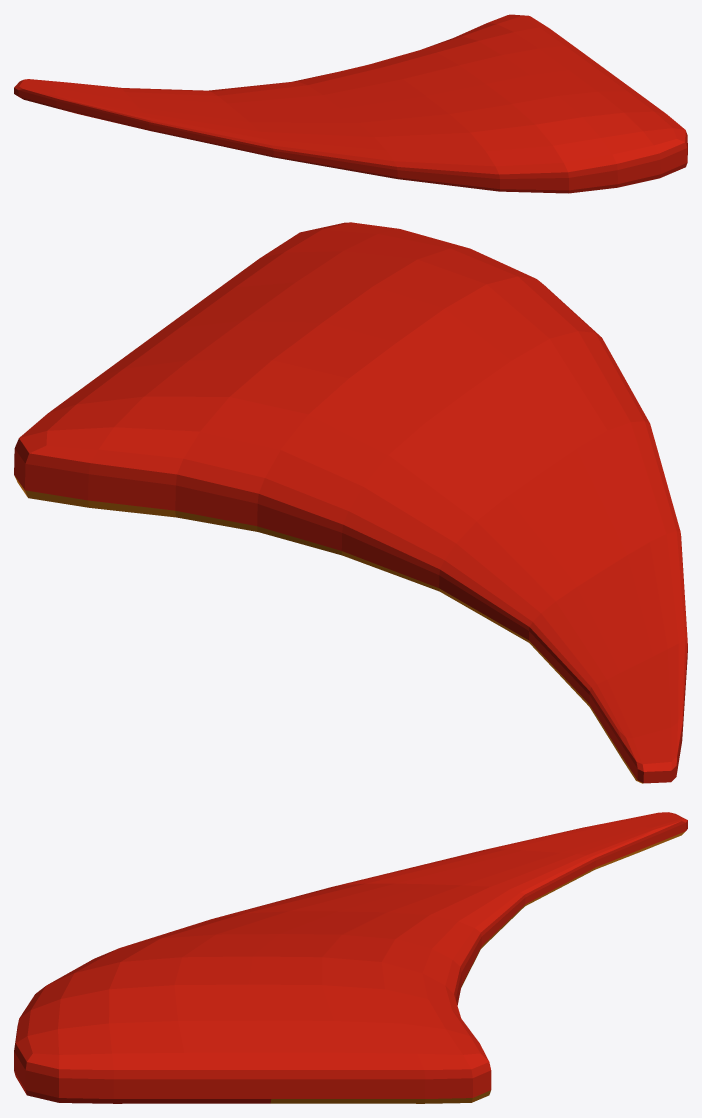
File: pteranodon_wing_r.obj
The picture shows the model from 3 angles, top to bottom: view 1: azimuth 30°, elevation 25°; view 2: azimuth 150°, elevation 25°; view 3: azimuth 270°, elevation 25°; orthographic projection. The views are drawn at different scales.
Parts seen in each view (by area): view 1: Wing_right_Pteranodon_1; view 2: Wing_right_Pteranodon_1, Wing_right_Pteranodon_2; view 3: Wing_right_Pteranodon_1, Wing_right_Pteranodon_2.
Part boxes in pixels (x1,y1,x2,y2): Wing_right_Pteranodon_1: (14, 14, 687, 193); Wing_right_Pteranodon_1: (14, 222, 687, 783); Wing_right_Pteranodon_2: (14, 476, 642, 783); Wing_right_Pteranodon_1: (14, 812, 687, 1103); Wing_right_Pteranodon_2: (270, 831, 685, 1103).
Bounding box in the file's own units: 5.08 × 0.5795 × 5.05.
